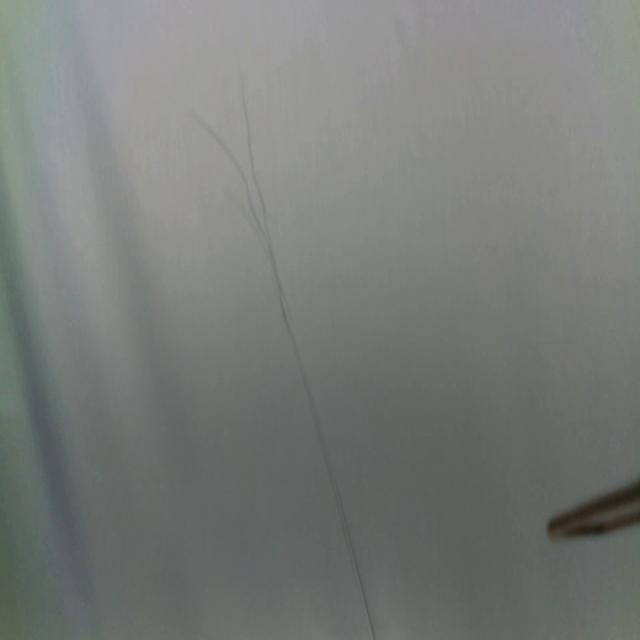crease: (185, 106, 377, 639)
